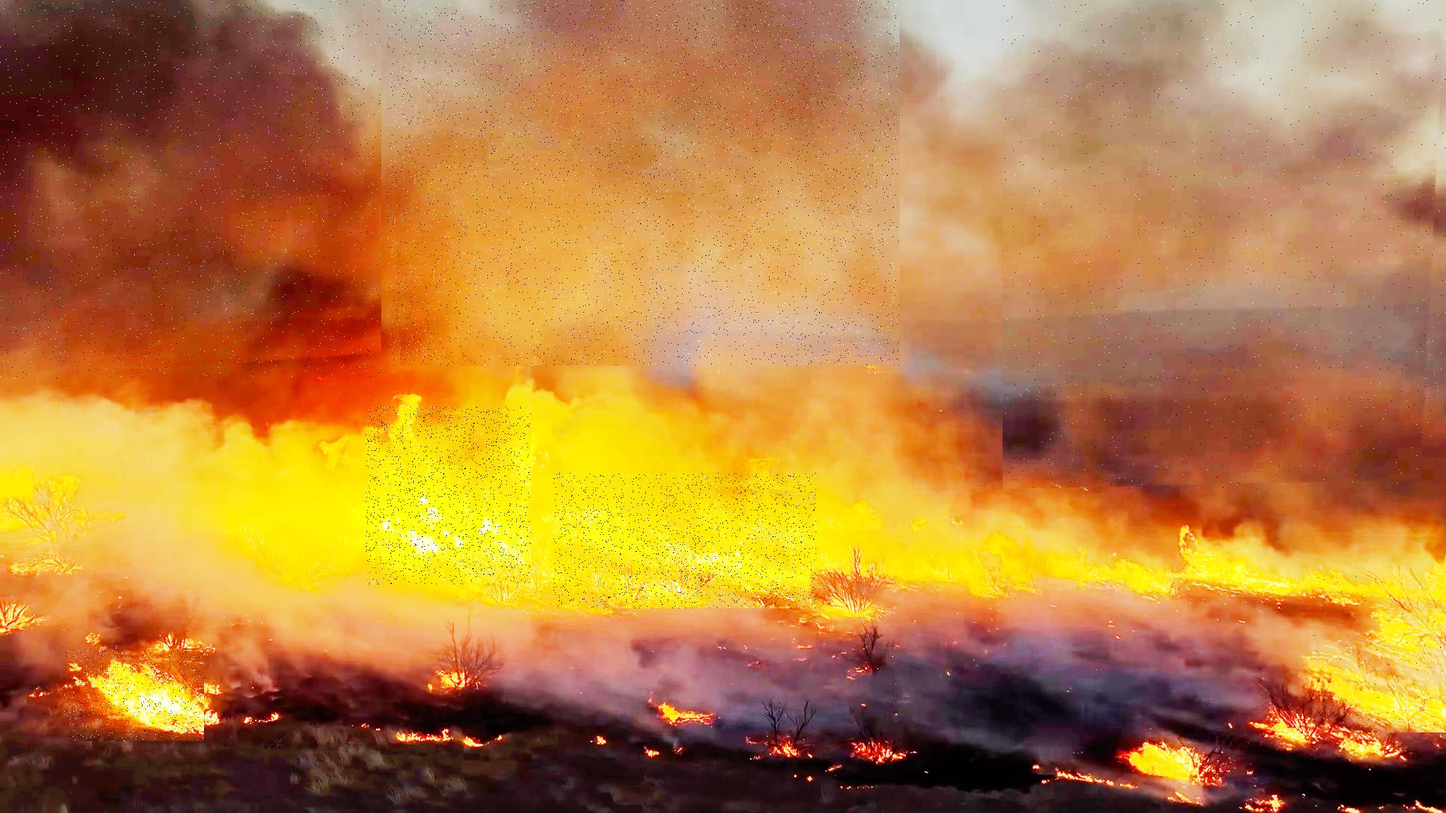fire: (554, 473, 816, 608), (366, 407, 531, 584), (1309, 569, 1446, 733), (1175, 531, 1446, 596), (64, 649, 204, 741)
smoke: (1003, 0, 1446, 490), (387, 0, 900, 366), (0, 0, 381, 378)
